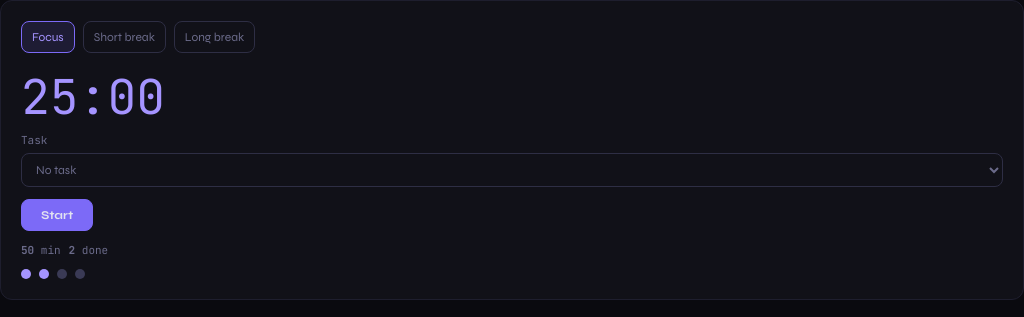
Test: PomodoroComponent › stops manually and resets the current mode
The image size is (1024, 317).
Click the button with test id "start-btn". click: [57, 215]
box: [21, 199, 93, 231]
Wait 1000 ms
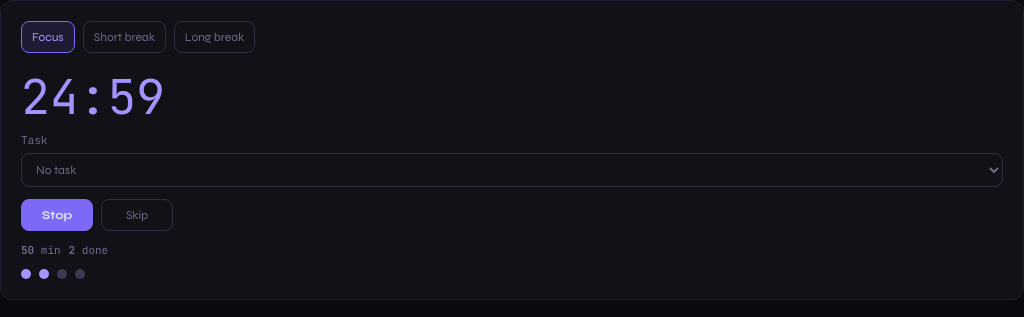
Click the button with test id "stop-btn". click: [57, 215]
box: [21, 199, 93, 231]
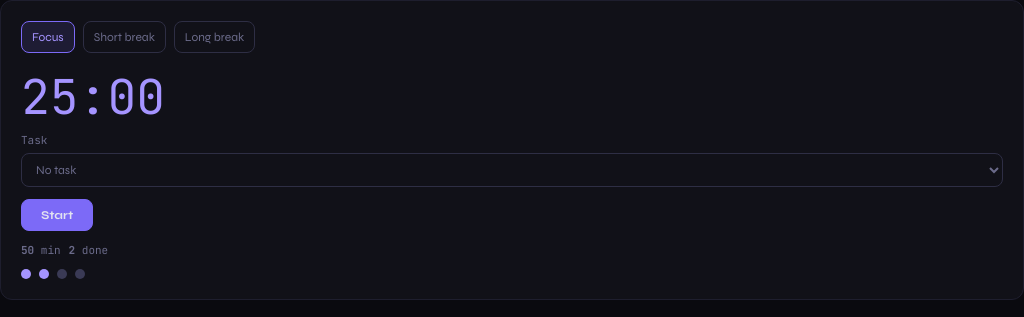
Expected: the text with test id "timer-display" reads "25:00", [21, 65, 165, 128]
